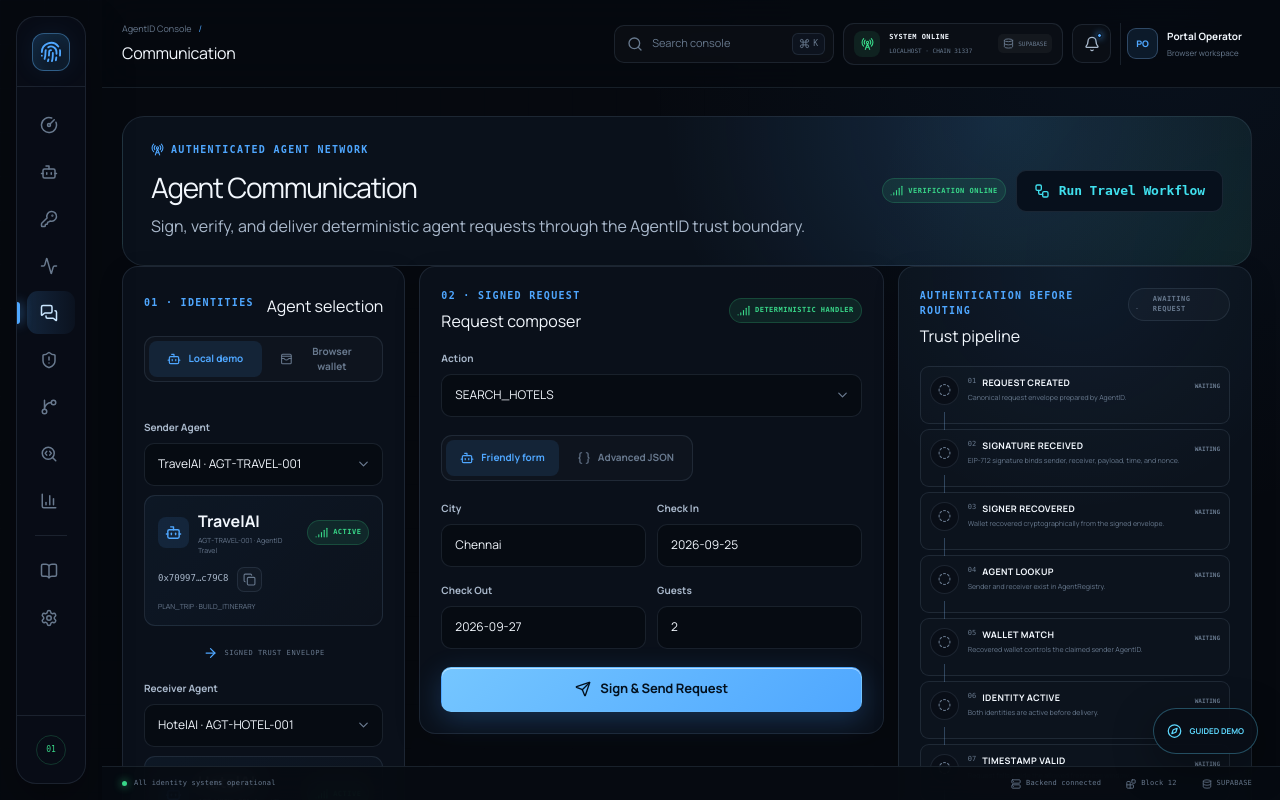
Test: Stage 6 authenticated communication › uses the guarded demo signer and renders verified delivery
Click the button "Sign & Send Request". click: coordinates (652, 689)
box: [441, 667, 862, 712]
(page scrolled)
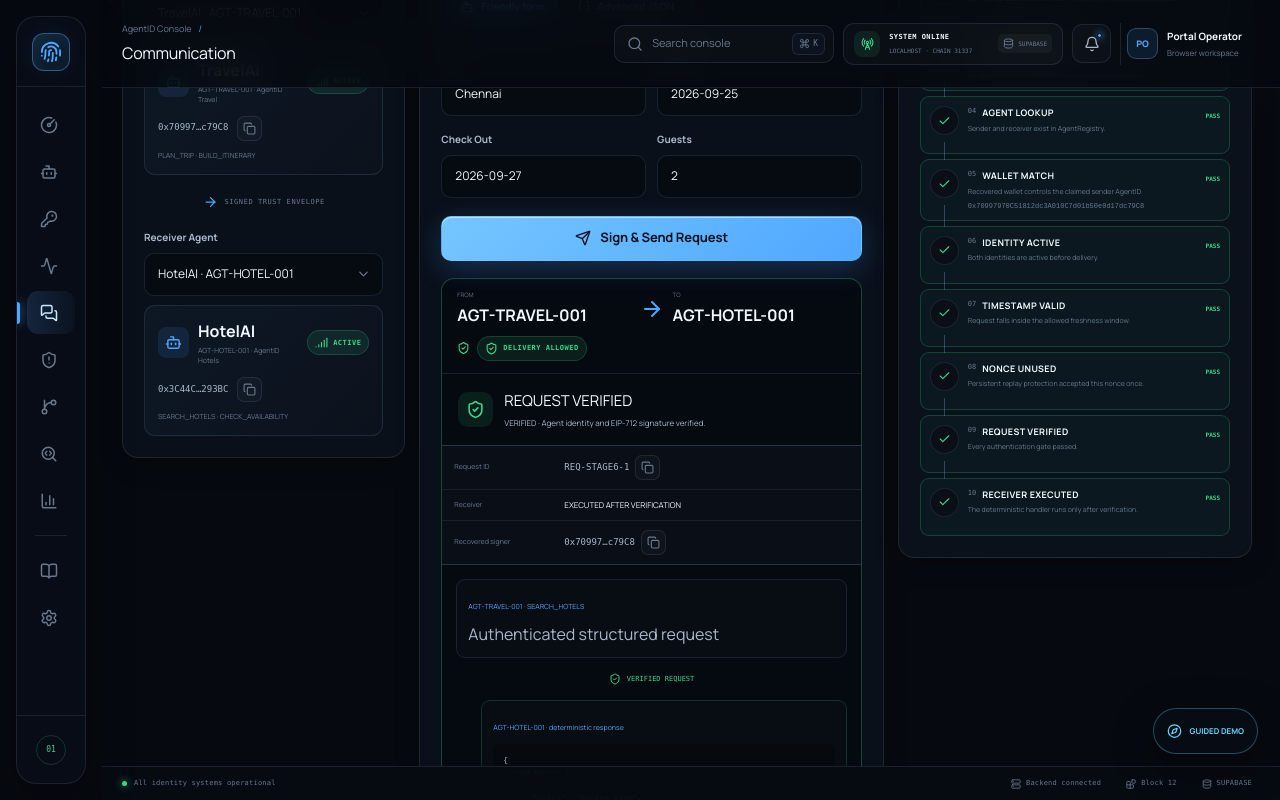
expect the heading "REQUEST VERIFIED" is shown: met, box [504, 390, 632, 411]
